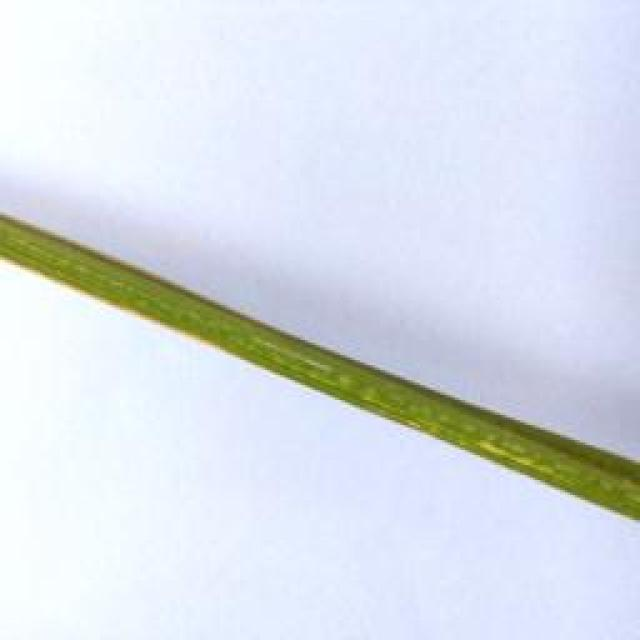Healthy-Plant: (0, 210, 640, 518)
